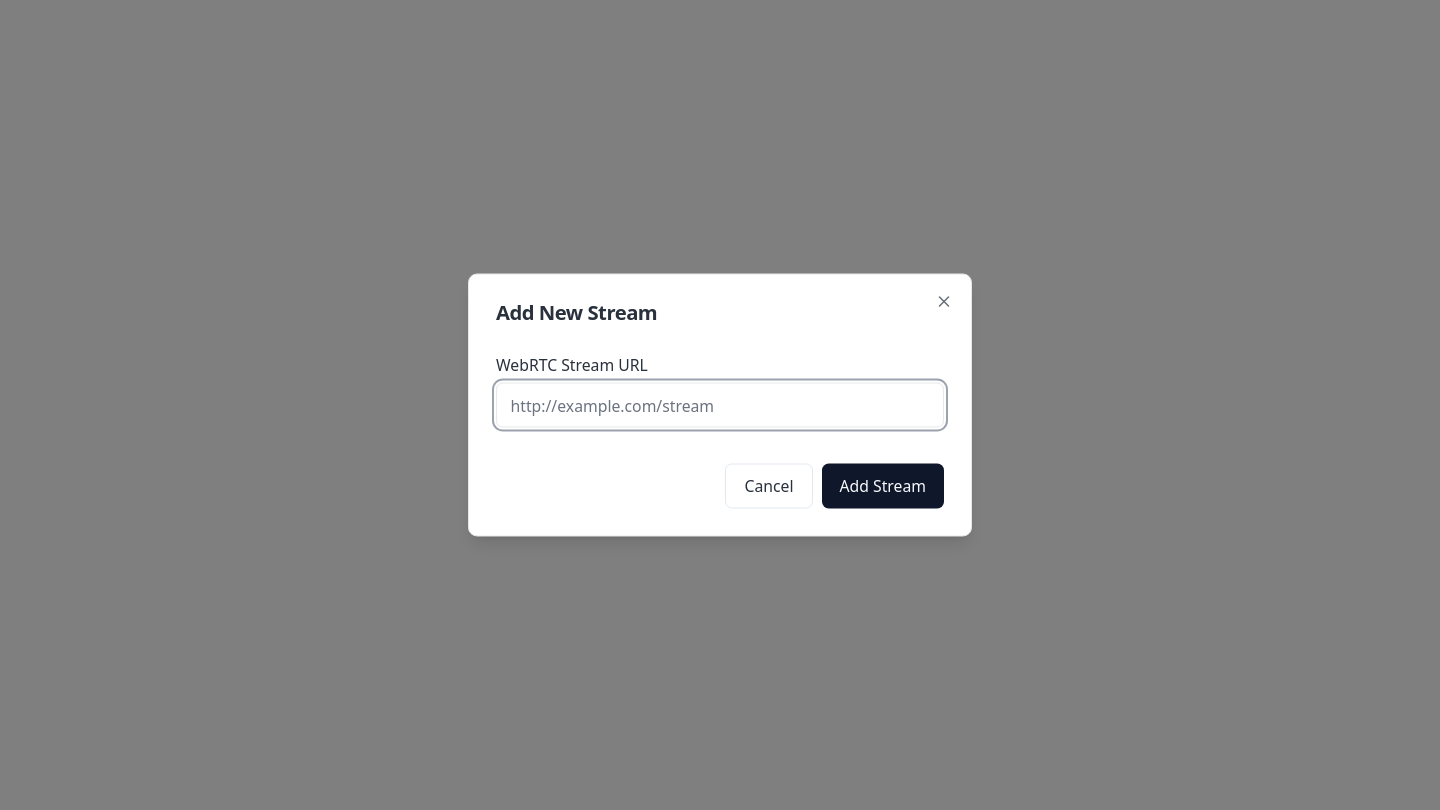
Test: AddStreamDialog › shows error when no empty cells available
This screenshot has width=1440, height=810.
Step 1. Type "http://valid-url.com" into the field with placeholder "http://example.com/stream" → (720, 405), box x1=496 y1=382 x2=944 y2=428
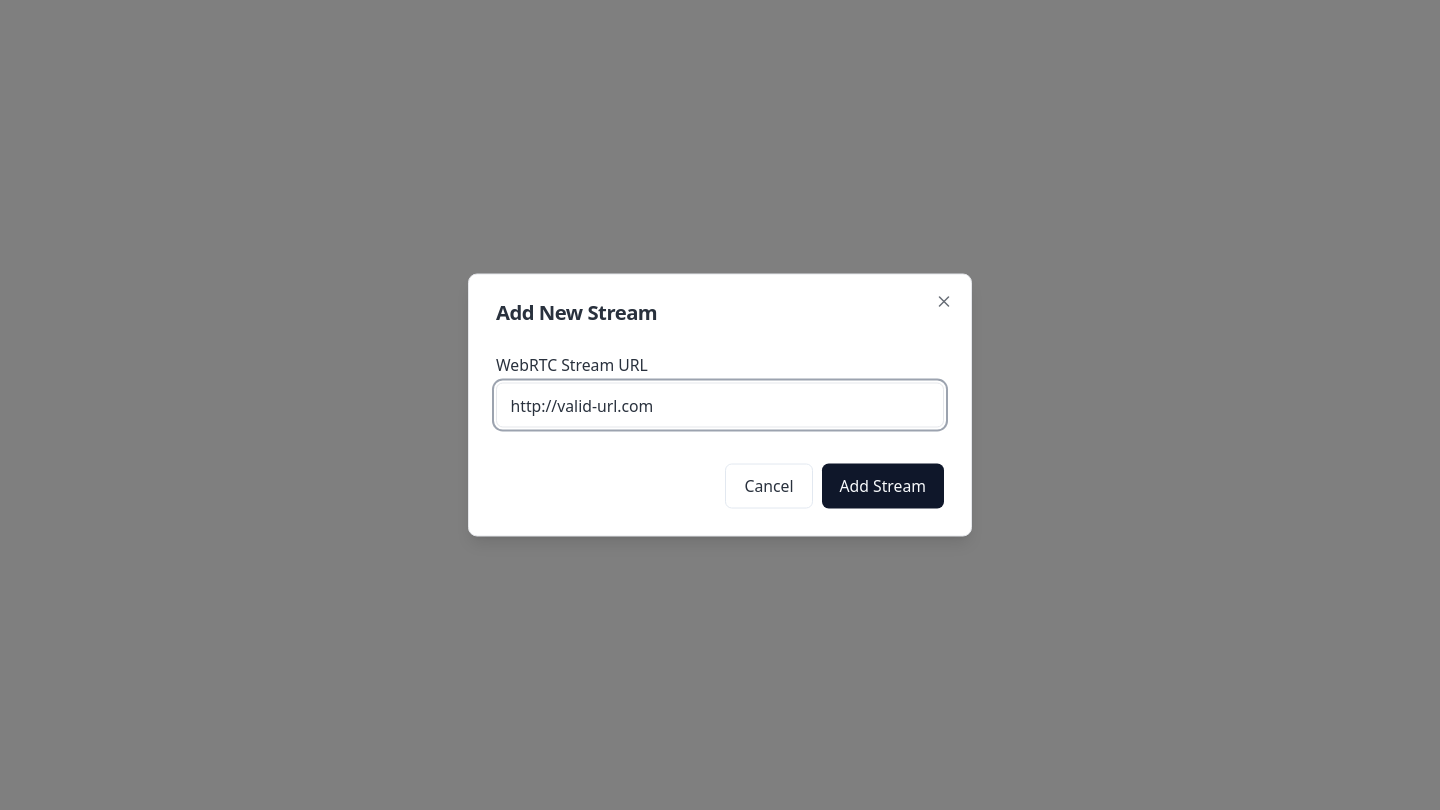
Step 2. Click the button "Add Stream" → (883, 486), box x1=822 y1=464 x2=944 y2=508
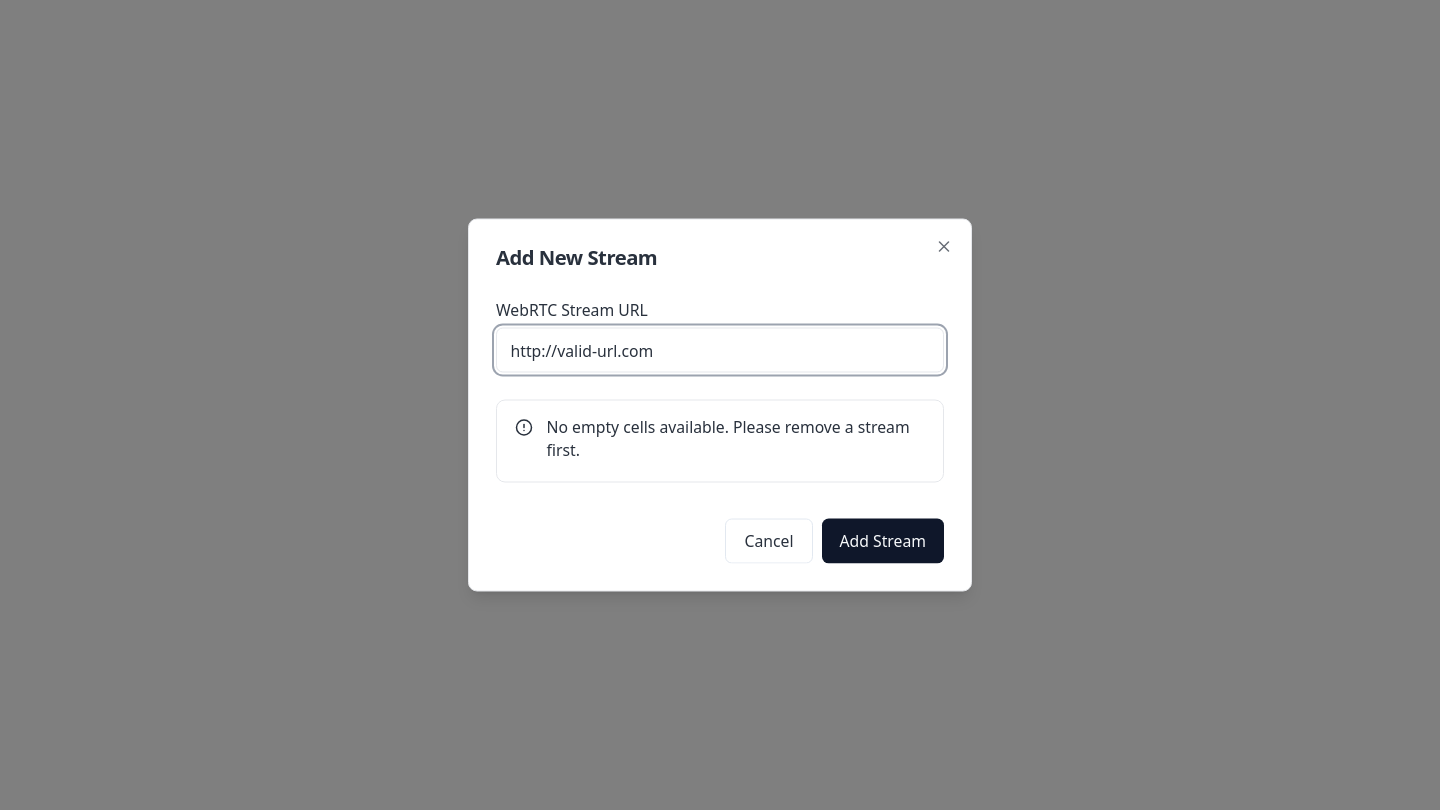
Now the text "No empty cells available. Please remove a stream first." is shown, box x1=515 y1=416 x2=925 y2=460
